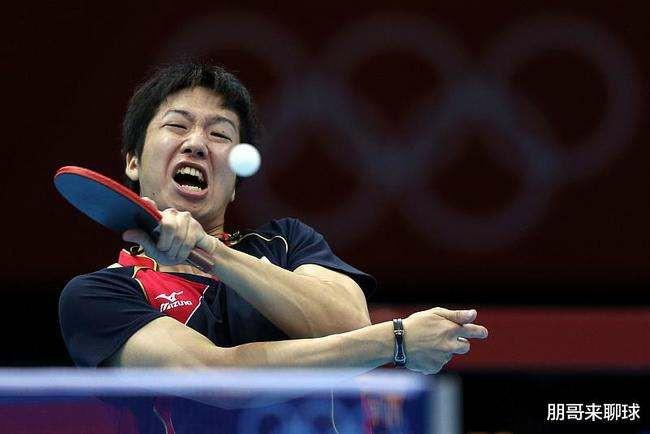ball: (222, 138, 264, 180)
